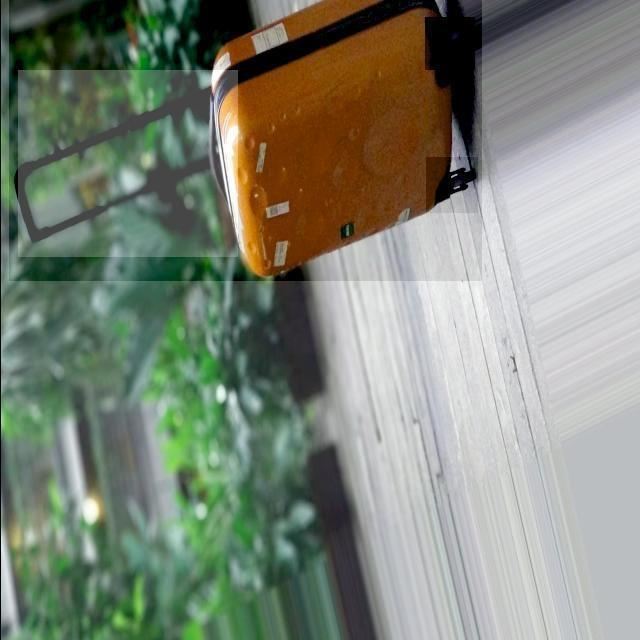Suitcase: (4, 0, 480, 286)
